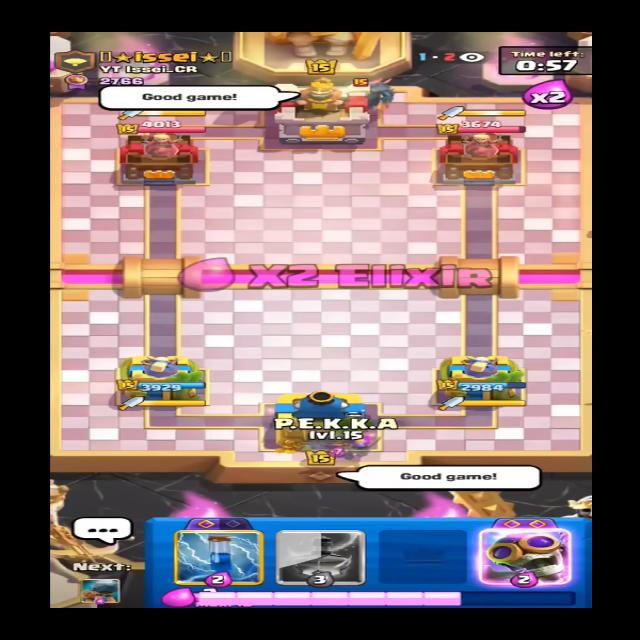pekka: (331, 76, 404, 118)
